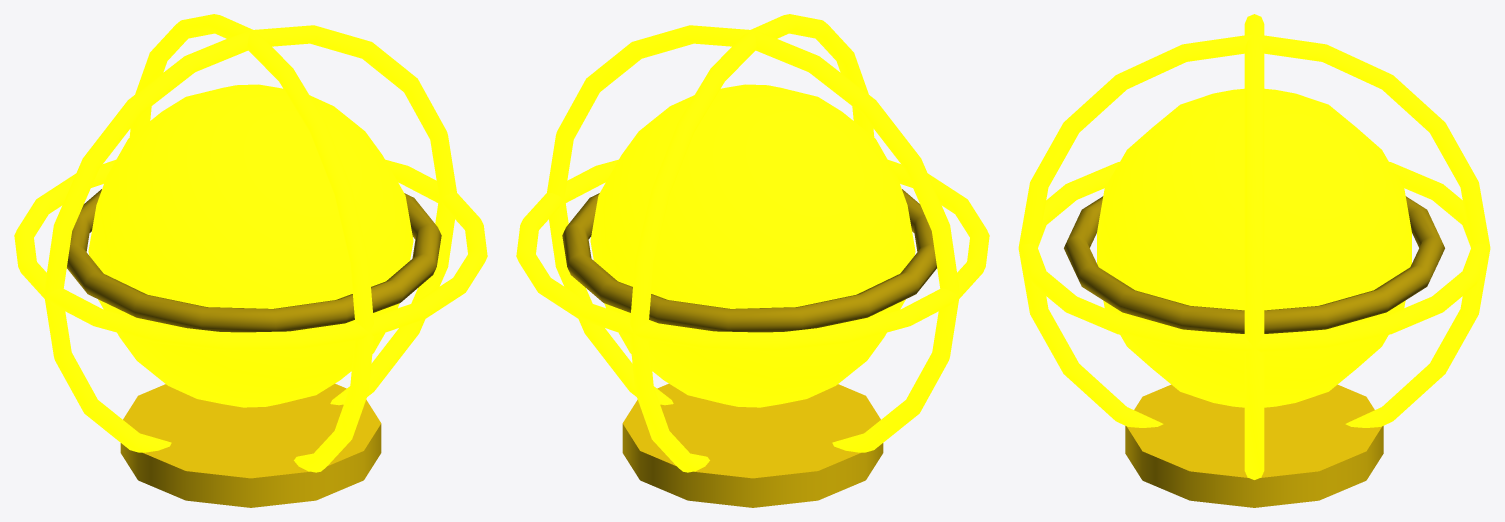
File: singularidad_eterica.glb
3 views of the same model, side by side, from view 1: azimuth 30°, elevation 25°; view 2: azimuth 150°, elevation 25°; view 3: azimuth 270°, elevation 25° (orthographic).
Parts seen in each view (by area): view 1: Glow, Body, Detail; view 2: Glow, Body, Detail; view 3: Glow, Body, Detail.
Part boxes in pixels (x1,y1,x2,y2): Glow: (14,14,487,472); Body: (120,383,381,507); Detail: (67,189,441,332); Glow: (516,14,989,472); Body: (622,383,883,507); Detail: (562,189,936,332); Glow: (1018,14,1490,479); Body: (1125,384,1383,507); Detail: (1064,196,1444,333).
Bounding box in the file's own units: 0.292 × 0.292 × 0.292.
